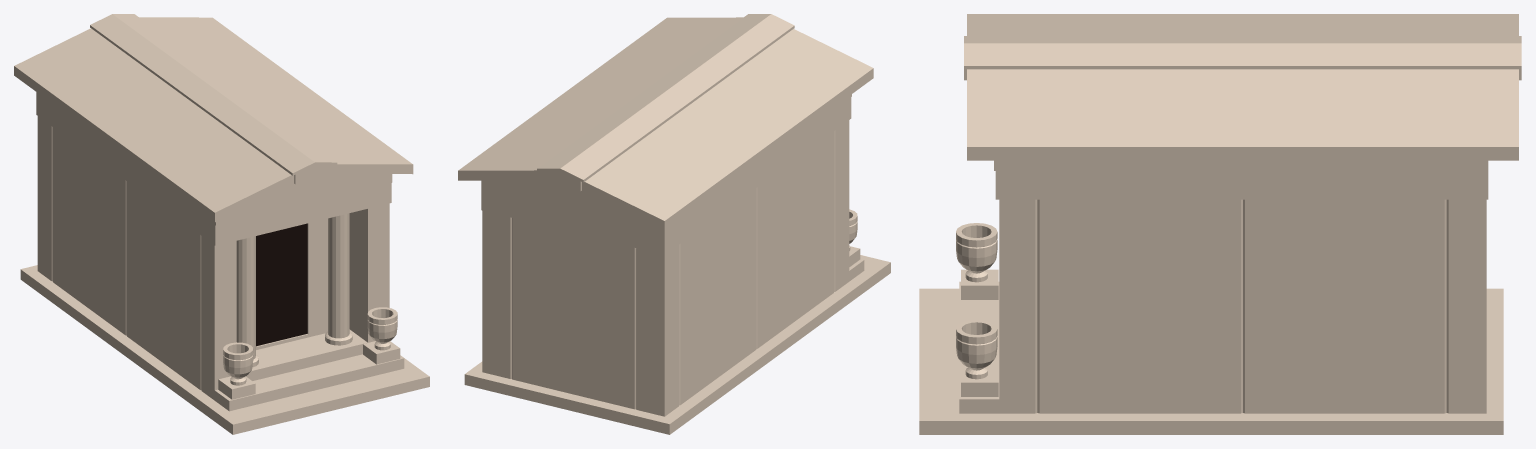
File: Mausoleum_001.fbx
The picture shows the model from 3 angles, left to right: view 1: azimuth 30°, elevation 25°; view 2: azimuth 150°, elevation 25°; view 3: azimuth 270°, elevation 25°; orthographic projection. The views are drawn at different scales.
Visible parts, largest first — view 1: mausoleum; view 2: mausoleum; view 3: mausoleum.
Part boxes in pixels (x1,y1,x2,y2): mausoleum: [14, 14, 429, 434]; mausoleum: [458, 14, 890, 434]; mausoleum: [919, 14, 1521, 434].
Size of the model in its own units: 302 by 344 by 578.
